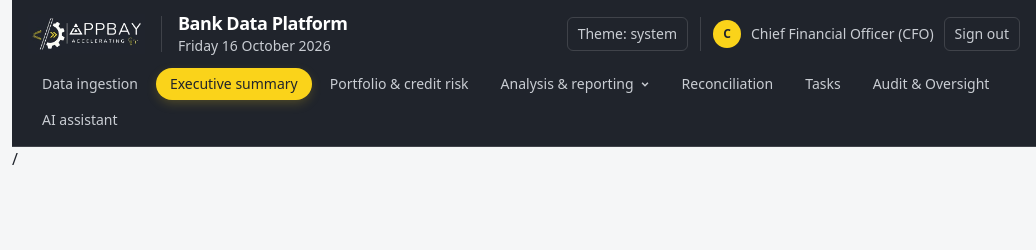
it: screen menu › groups Branch & segment, Scenario modelling and Regulatory reporting under one dropdown
The image size is (1036, 250).
Expected: the link "Scenario modelling" is not shown
Expected: the link "Reconciliation" is shown, [682, 74, 773, 93]
What coordinates should you click on to do the following:
click the button "Analysis & reporting"
I would click on:
 (575, 84)
Its box is [487, 68, 664, 100].
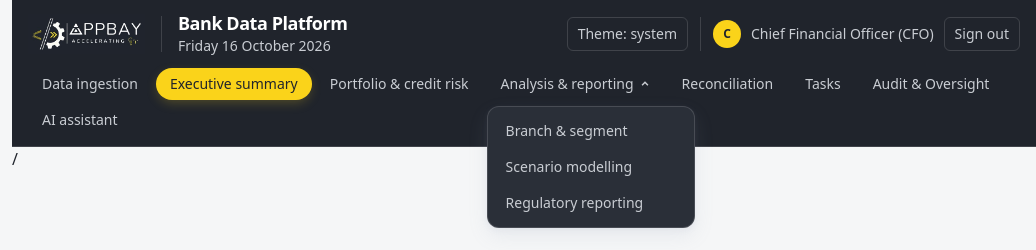
Now the menu items read "Branch & segment", "Scenario modelling", "Regulatory reporting", in this order
What coordinates should you click on to do the following:
click the menu item "Scenario modelling"
I would click on:
 (569, 166)
Its box is [506, 157, 632, 176].
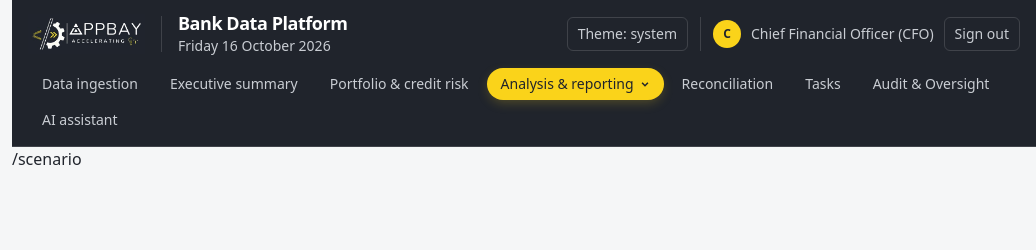
Now the text with test id "where" reads "/scenario", box [12, 148, 82, 170]
Now the menu is gone
